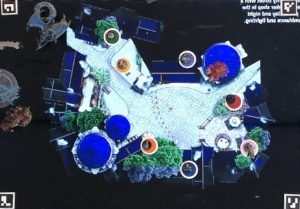blue: (179, 157, 203, 181)
green: (103, 27, 121, 47)
orange: (136, 136, 162, 156)
pink: (237, 136, 260, 159)
red: (225, 94, 244, 111)
violet: (177, 50, 197, 70)
yellow: (113, 56, 133, 76)
